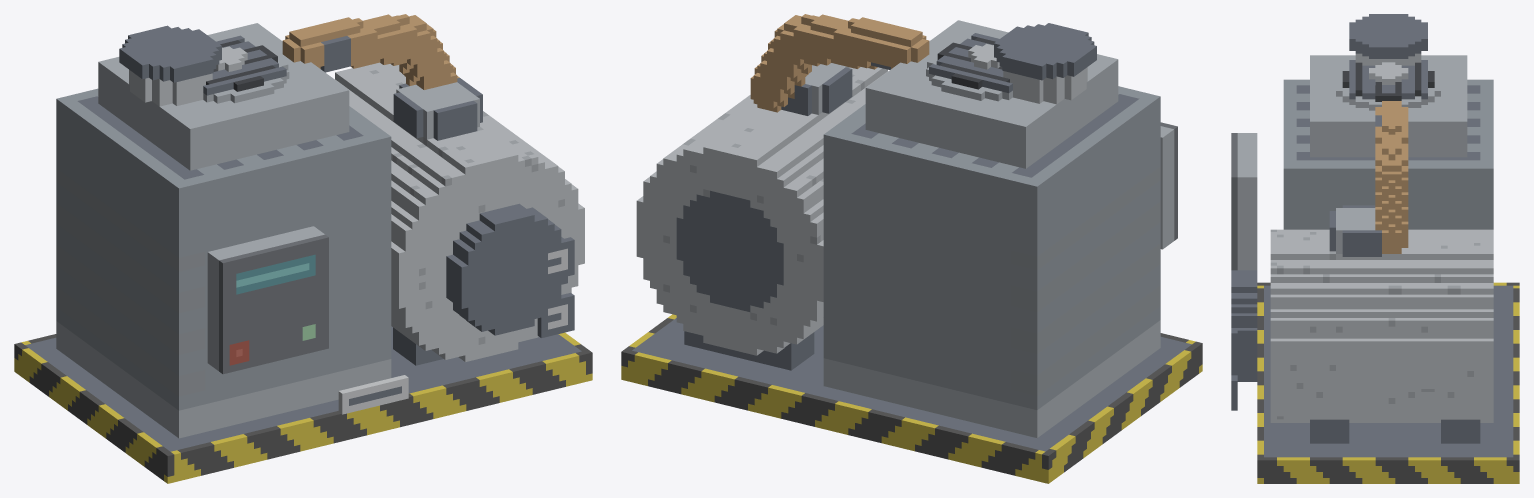
Rendered from compressor.glb.
3 views of the same model, side by side, from view 1: azimuth 30°, elevation 25°; view 2: azimuth 150°, elevation 25°; view 3: azimuth 270°, elevation 25° (orthographic). The views are drawn at different scales.
Visible parts, largest first — view 1: compressor; view 2: compressor; view 3: compressor.
Boxes of the visible parts, x1,y1,x2,y2 form: compressor: (14, 14, 592, 483); compressor: (621, 14, 1202, 483); compressor: (1231, 14, 1519, 483).
Size of the model in its own units: 2 by 1.62 by 1.38.
